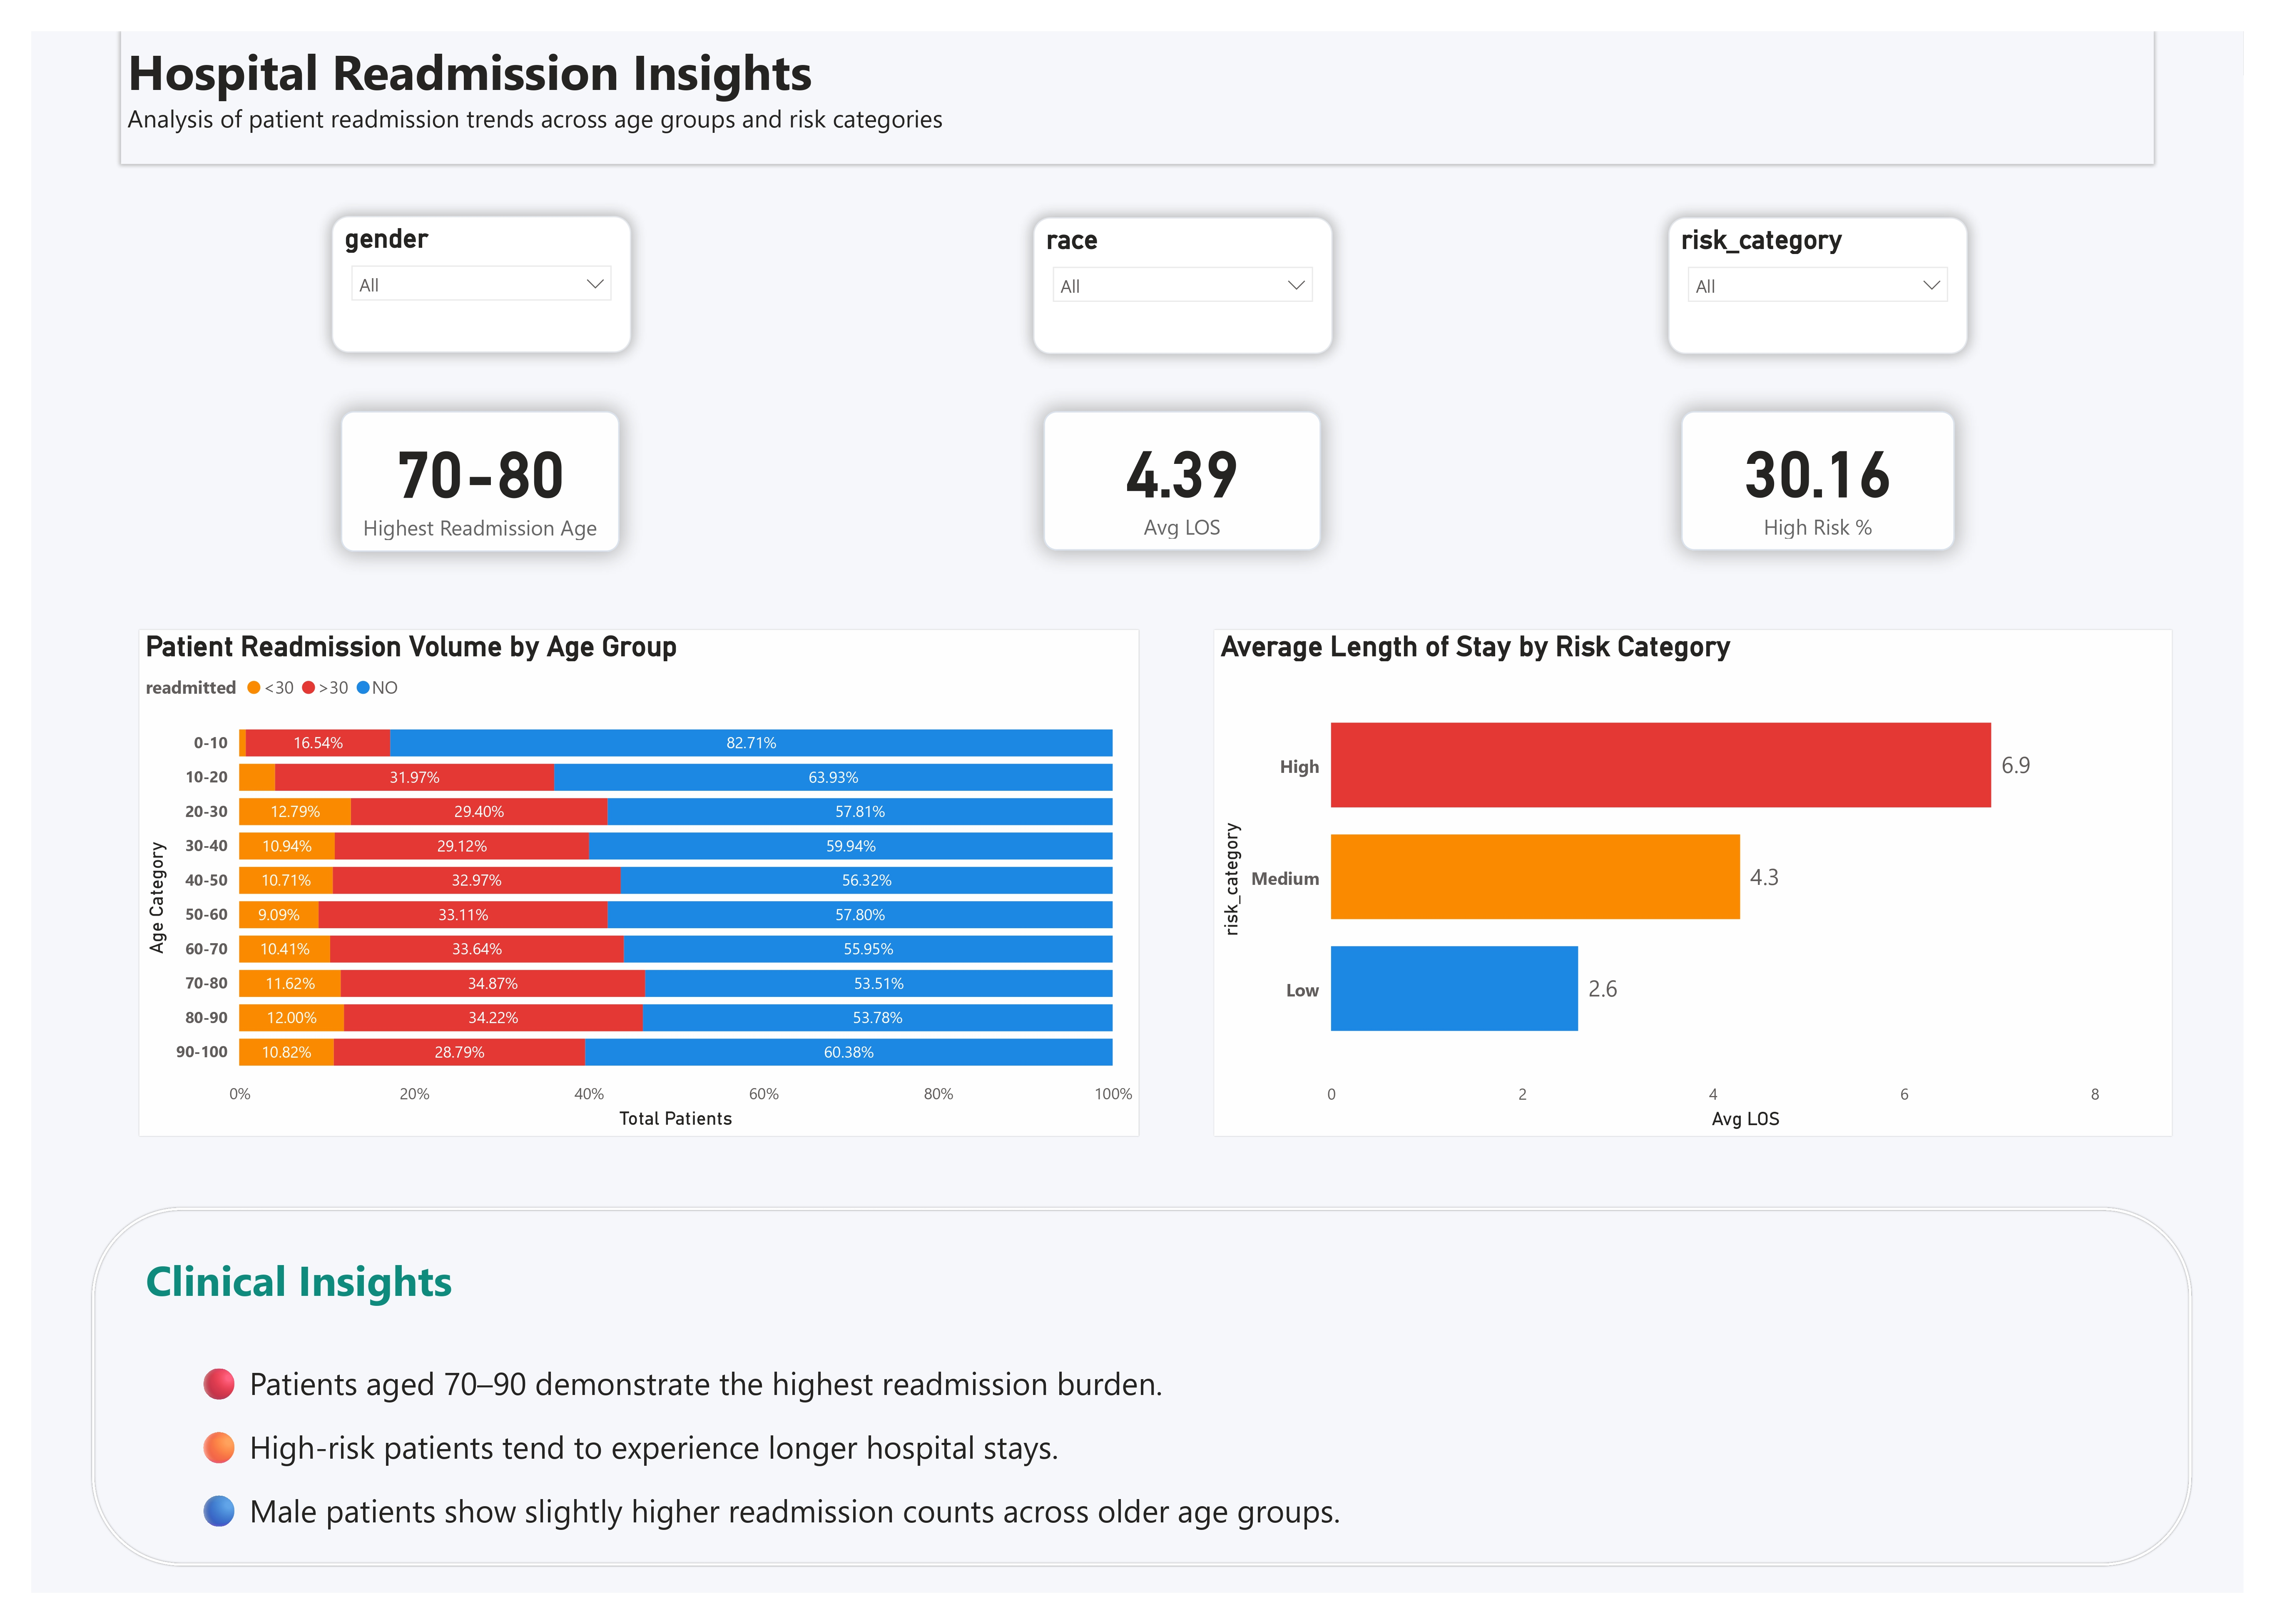

What the dashboard file says about the page in this screenshot:
{"tool":"powerbi","page":{"name":"🏥Clinical Insights","canvas":[1700,1200],"ordinal":1},"visuals":[{"type":"hundredPercentStackedBarChart","title":"Patient Readmission Volume by Age Group","fields":{"Category":["Age Lookup.Age Category"],"Series":["featured_hospital_data.readmitted"],"Y":["featured_hospital_data.Total Patients"]},"box":[83,459.6,768.1,389.4],"z":0},{"type":"slicer","title":"gender","fields":{"Values":["featured_hospital_data.gender"]},"box":[230.7,141.9,230,105],"z":1000},{"type":"card","fields":{"Values":["featured_hospital_data.Highest Readmission Age"]},"box":[238,292,214,108],"z":2000},{"type":"card","fields":{"Values":["featured_hospital_data.Avg LOS"]},"box":[778.2,291.9,212.5,107.5],"z":3000},{"type":"card","fields":{"Values":["featured_hospital_data.High Risk %"]},"box":[1268.2,291.9,210,107.5],"z":4000},{"type":"clusteredBarChart","title":"Average Length of Stay by Risk Category","fields":{"Y":["featured_hospital_data.Avg LOS"],"Category":["featured_hospital_data.risk_category"]},"box":[908.5,459.6,736.2,389.4],"z":5000},{"type":"shape","box":[44.7,902.1,1617,278.7],"z":6000},{"type":"textbox","box":[83,931.9,342.6,53.2],"z":7000},{"type":"textbox","box":[123.4,1006.4,1046.8,148.9],"z":8000},{"type":"textbox","box":[69,0,1562,102],"z":9000},{"type":"slicer","title":"race","fields":{"Values":["featured_hospital_data.race"]},"box":[770,142.5,230,105],"z":10000},{"type":"slicer","title":"risk_category","fields":{"Values":["featured_hospital_data.risk_category"]},"box":[1257.5,142.5,230,105],"z":11000}]}

Visuals, with their boxes on the page's 1700x1200 design canvas (x1, y1, x2, y2). These are canvas units, not pixel positions in the 2275x1624 screenshot, which may show the page scaled, cropped or inside an application window:
"Patient Readmission Volume by Age Group" hundredPercentStackedBarChart: locate(83, 460, 851, 849)
"gender" slicer: locate(231, 142, 461, 247)
card - featured_hospital_data.Highest Readmission Age: locate(238, 292, 452, 400)
card - featured_hospital_data.Avg LOS: locate(778, 292, 991, 399)
card - featured_hospital_data.High Risk %: locate(1268, 292, 1478, 399)
"Average Length of Stay by Risk Category" clusteredBarChart: locate(908, 460, 1645, 849)
shape: locate(45, 902, 1662, 1181)
textbox: locate(83, 932, 426, 985)
textbox: locate(123, 1006, 1170, 1155)
textbox: locate(69, 0, 1631, 102)
"race" slicer: locate(770, 142, 1000, 248)
"risk_category" slicer: locate(1258, 142, 1488, 248)
